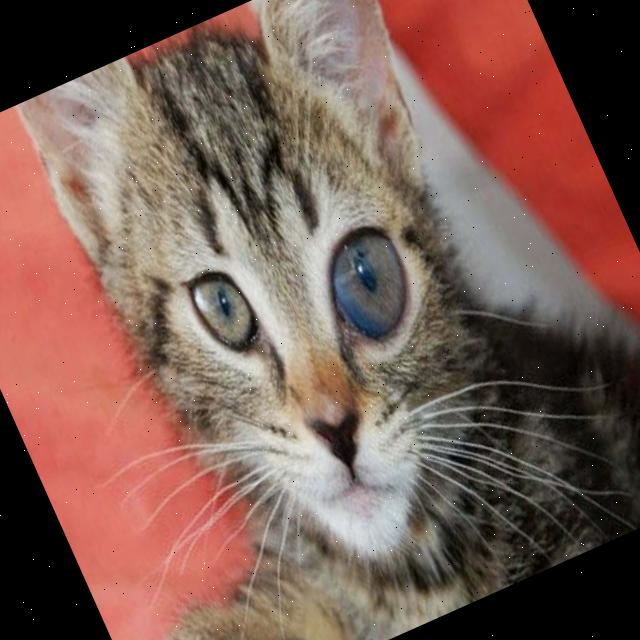cat-eye: (296, 197, 444, 375)
cat-eye-normal: (174, 245, 280, 367)
